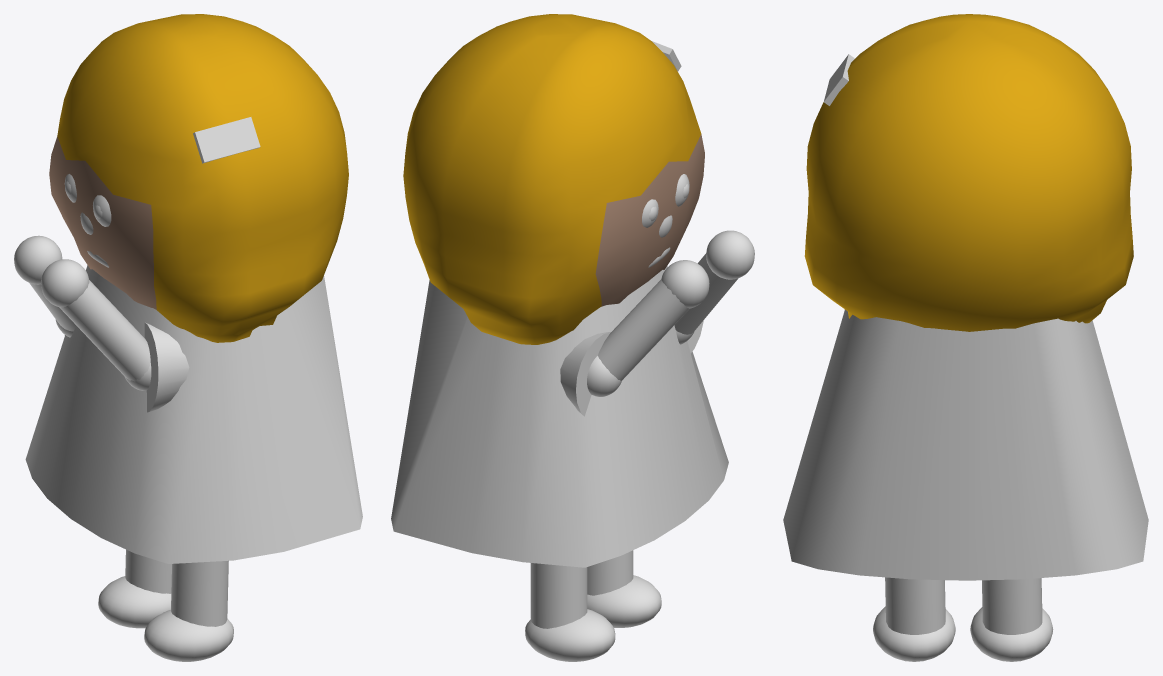
Rendered from gretelV2.fbx.
The picture shows the model from 3 angles, left to right: view 1: azimuth 30°, elevation 25°; view 2: azimuth 150°, elevation 25°; view 3: azimuth 270°, elevation 25°; orthographic projection. The views are drawn at different scales.
Visible parts, largest first — view 1: pSphere1, pCylinder1, pCylinder23, pCylinder21, pSphere17, pCylinder22, pSphere4, pCube1, pSphere20, pSphere2, pCylinder15, pCylinder8; view 2: pSphere1, pCylinder1, pCylinder8, pCylinder15, pSphere4, pSphere17, pCylinder2, pSphere20, pSphere2, pCylinder21, pCylinder23, pSphere18; view 3: pSphere1, pCylinder1, pCylinder21, pCylinder15, pSphere17, pSphere4, pCube1.
Part boxes in pixels (x1=…): pSphere1: x1=49, y1=14, x2=348, y2=342; pCylinder1: x1=25, y1=265, x2=362, y2=563; pCylinder23: x1=59, y1=280, x2=150, y2=381; pCylinder21: x1=171, y1=560, x2=228, y2=626; pSphere17: x1=144, y1=610, x2=233, y2=661; pCylinder22: x1=144, y1=322, x2=189, y2=412; pSphere4: x1=98, y1=576, x2=171, y2=628; pCube1: x1=193, y1=117, x2=260, y2=163; pSphere20: x1=41, y1=259, x2=89, y2=307; pSphere2: x1=14, y1=235, x2=62, y2=284; pCylinder15: x1=125, y1=549, x2=171, y2=593; pCylinder8: x1=29, y1=283, x2=75, y2=331; pSphere1: x1=403, y1=14, x2=704, y2=344; pCylinder1: x1=391, y1=266, x2=728, y2=567; pCylinder8: x1=598, y1=279, x2=689, y2=380; pCylinder15: x1=530, y1=563, x2=587, y2=628; pSphere4: x1=525, y1=609, x2=615, y2=661; pSphere17: x1=587, y1=575, x2=661, y2=627; pCylinder2: x1=560, y1=332, x2=610, y2=416; pSphere20: x1=706, y1=230, x2=754, y2=279; pSphere2: x1=661, y1=260, x2=709, y2=308; pCylinder21: x1=587, y1=550, x2=633, y2=595; pCylinder23: x1=674, y1=253, x2=738, y2=334; pSphere18: x1=587, y1=356, x2=621, y2=396; pSphere1: x1=804, y1=14, x2=1133, y2=331; pCylinder1: x1=783, y1=309, x2=1148, y2=580; pCylinder21: x1=885, y1=577, x2=945, y2=634; pCylinder15: x1=982, y1=578, x2=1042, y2=634; pSphere17: x1=873, y1=606, x2=955, y2=661; pSphere4: x1=970, y1=607, x2=1053, y2=661; pCube1: x1=824, y1=54, x2=854, y2=105.
Size of the model in its own units: 22.84 by 22.32 by 42.93.
